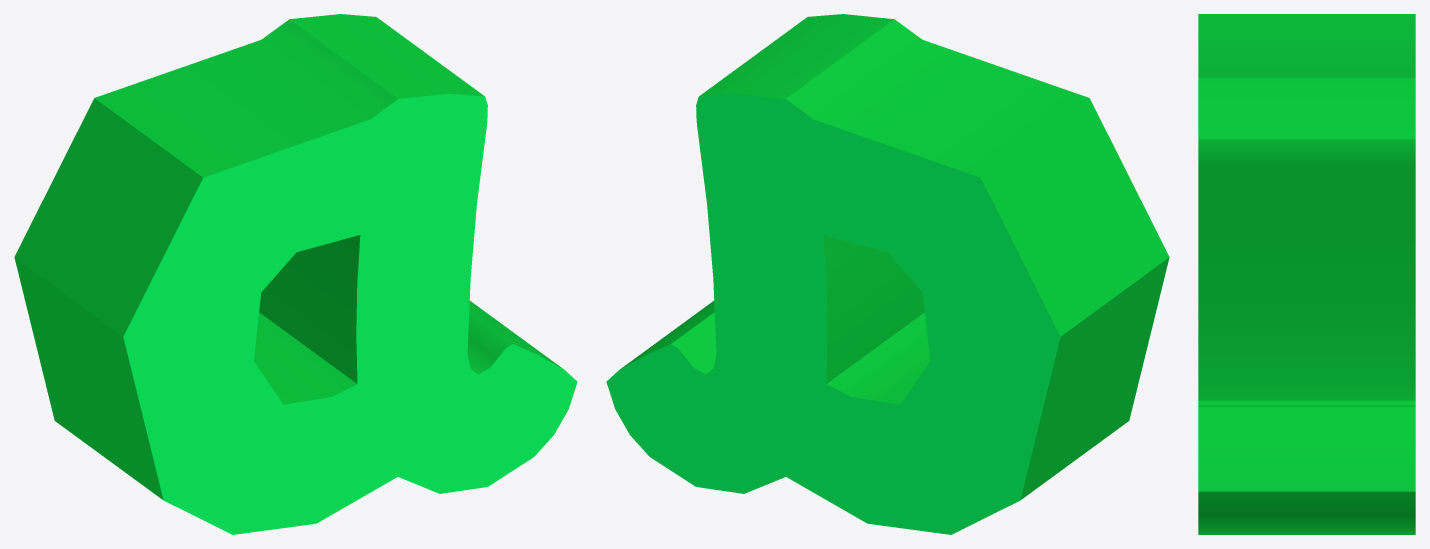
Rendered from A_Zyzol_Green.glb.
3 renders of one model, left to right at view 1: azimuth 30°, elevation 25°; view 2: azimuth 150°, elevation 25°; view 3: azimuth 270°, elevation 25°, orthographic.
Visible parts, largest first — view 1: a_Zyzol_Green; view 2: a_Zyzol_Green; view 3: a_Zyzol_Green.
Boxes of the visible parts, <box> form: a_Zyzol_Green: <box>14,14,577,534</box>; a_Zyzol_Green: <box>606,14,1169,534</box>; a_Zyzol_Green: <box>1198,14,1415,534</box>.
Size of what is drawn, in the model's own units: 0.1084 by 0.0934 by 0.045.
Materials: 2 (2 with a texture image).
